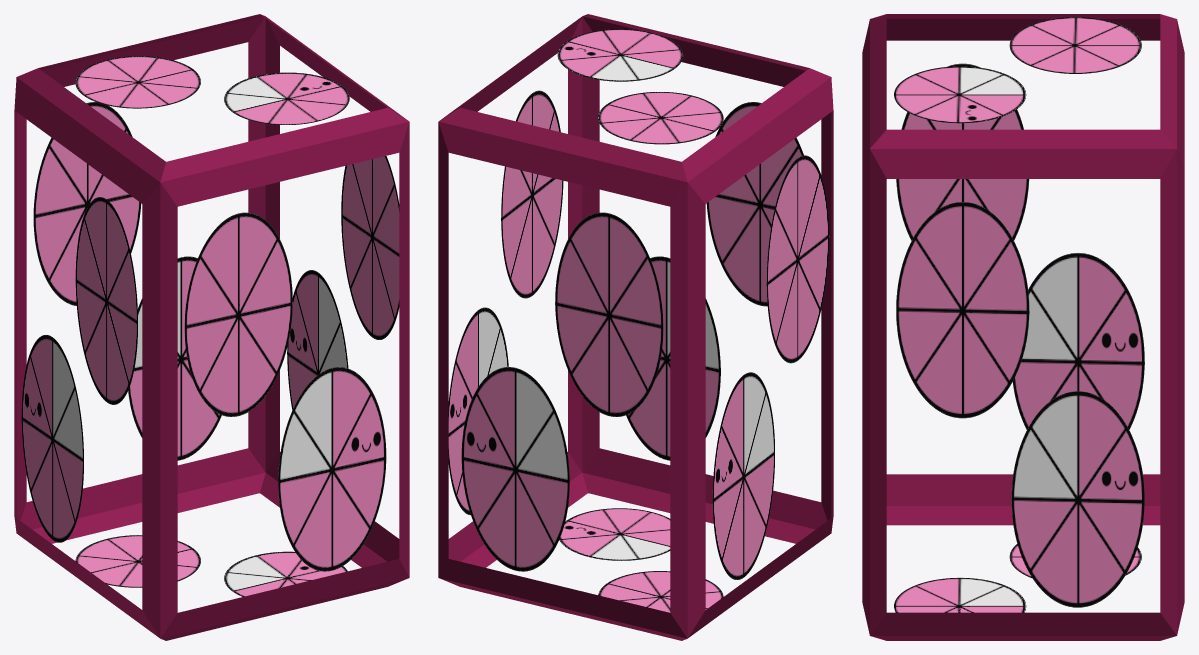
File: Fracciones siete cuartos.fbx
3 views of the same model, side by side, from view 1: azimuth 30°, elevation 25°; view 2: azimuth 150°, elevation 25°; view 3: azimuth 270°, elevation 25° (orthographic). The views are drawn at different scales.
Parts seen in each view (by area): view 1: 7/4; view 2: 7/4; view 3: 7/4.
Part boxes in pixels (x1,y1,x2,y2): 7/4: (14,14,409,640); 7/4: (438,14,833,640); 7/4: (862,14,1184,640).
Size of the model in its own units: 213 by 368 by 210.
2 materials, 1 textured.
